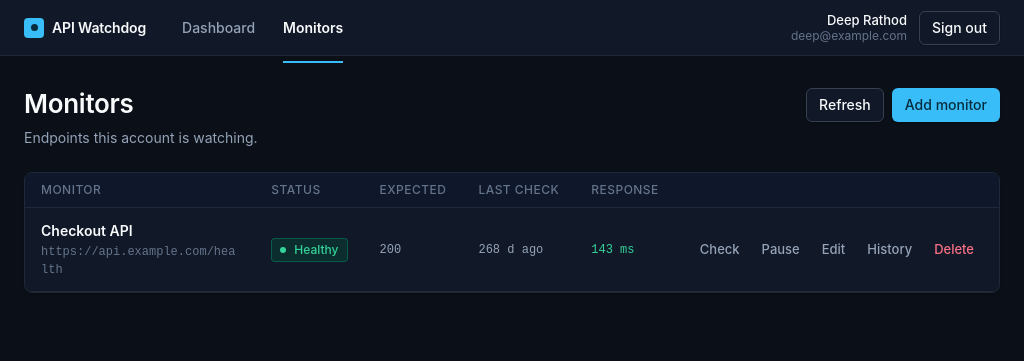
Test: pause and resume › keeps the displayed state when the patch fails
Expected: the text "Checkout API" is shown, [41,222,133,239]
Click the button with aria-label "Pause Checkout API".
click(781, 250)  # box [753,236,809,264]
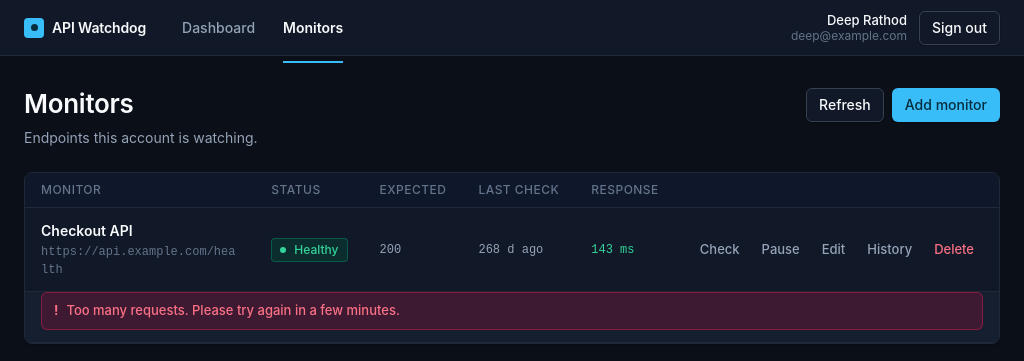
Expected: the message shows "Too many requests", [66,302,400,318]
